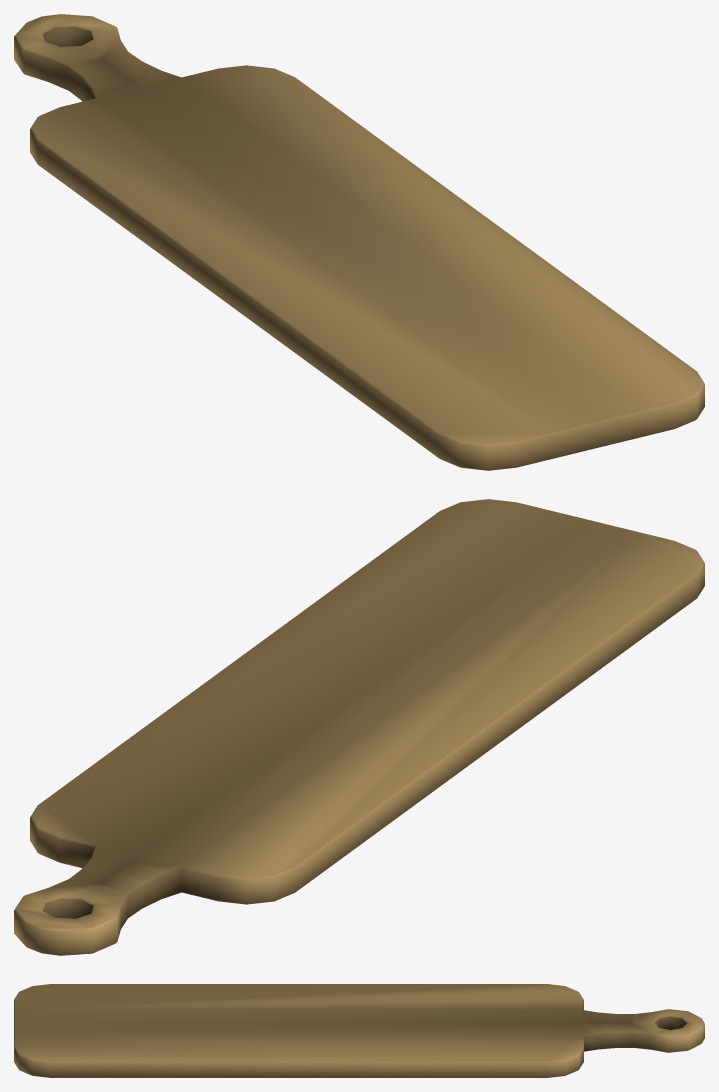
File: CutBoard-01.fbx
The picture shows the model from 3 angles, top to bottom: view 1: azimuth 30°, elevation 25°; view 2: azimuth 150°, elevation 25°; view 3: azimuth 270°, elevation 25°; orthographic projection. The views are drawn at different scales.
Parts seen in each view (by area): view 1: CutBoard-01; view 2: CutBoard-01; view 3: CutBoard-01.
Part boxes in pixels (left/top/right/bottom): CutBoard-01: left=14, top=14, right=704, bottom=470; CutBoard-01: left=14, top=499, right=704, bottom=955; CutBoard-01: left=14, top=984, right=704, bottom=1077.
Bounding box in the file's own units: 666 × 64.72 × 2476.
